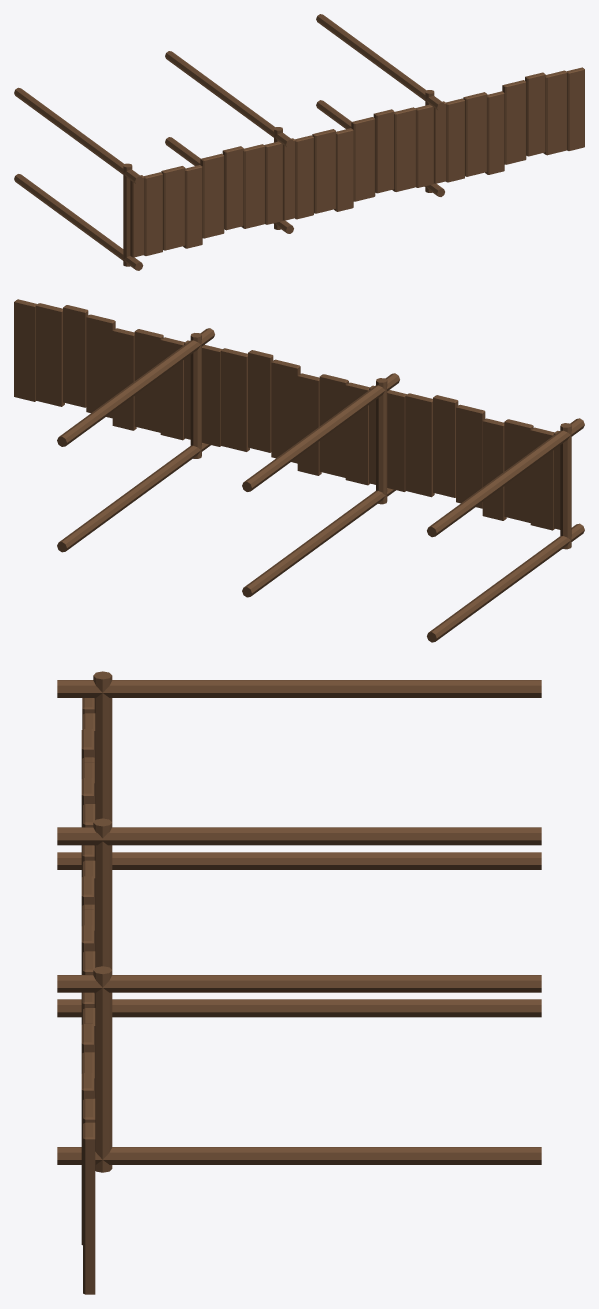
File: Dock_03b_7m.fbx
3 renders of one model, top to bottom at view 1: azimuth 30°, elevation 25°; view 2: azimuth 150°, elevation 25°; view 3: azimuth 270°, elevation 25°, orthographic. The views are drawn at different scales.
Visible parts, largest first — view 1: ponton_3.6M.001; view 2: ponton_3.6M.001; view 3: ponton_3.6M.001.
Part boxes in pixels (x1,y1,x2,y2): ponton_3.6M.001: (14,14,584,270); ponton_3.6M.001: (14,299,584,642); ponton_3.6M.001: (57,671,541,1294).
Bounding box in the file's own units: 606 × 126 × 278.
